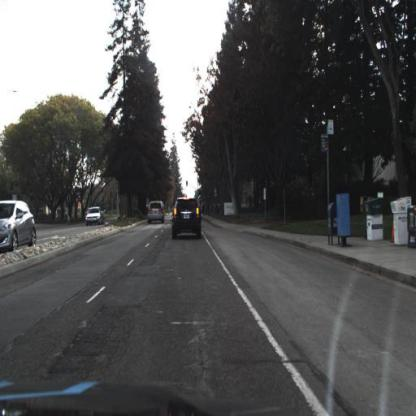car: (1, 199, 39, 255), (172, 198, 203, 241), (146, 200, 167, 227), (85, 205, 106, 228), (84, 206, 104, 227)
